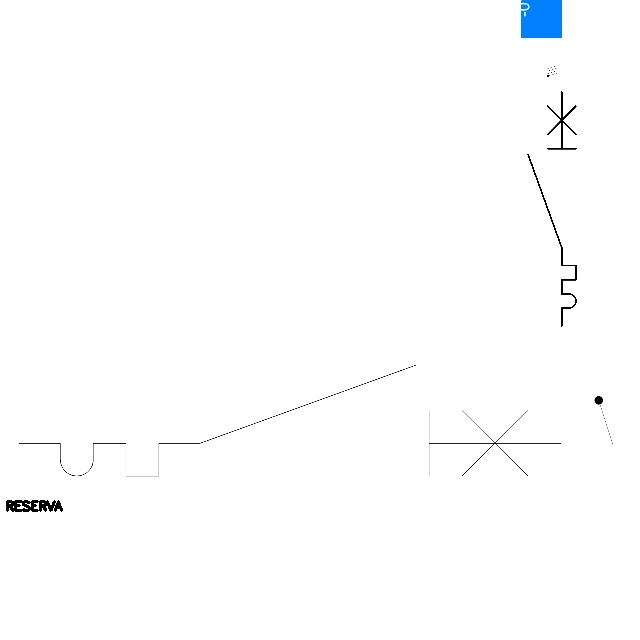interruptor_termomagnetico: (5, 351, 574, 490), (522, 85, 582, 331)
